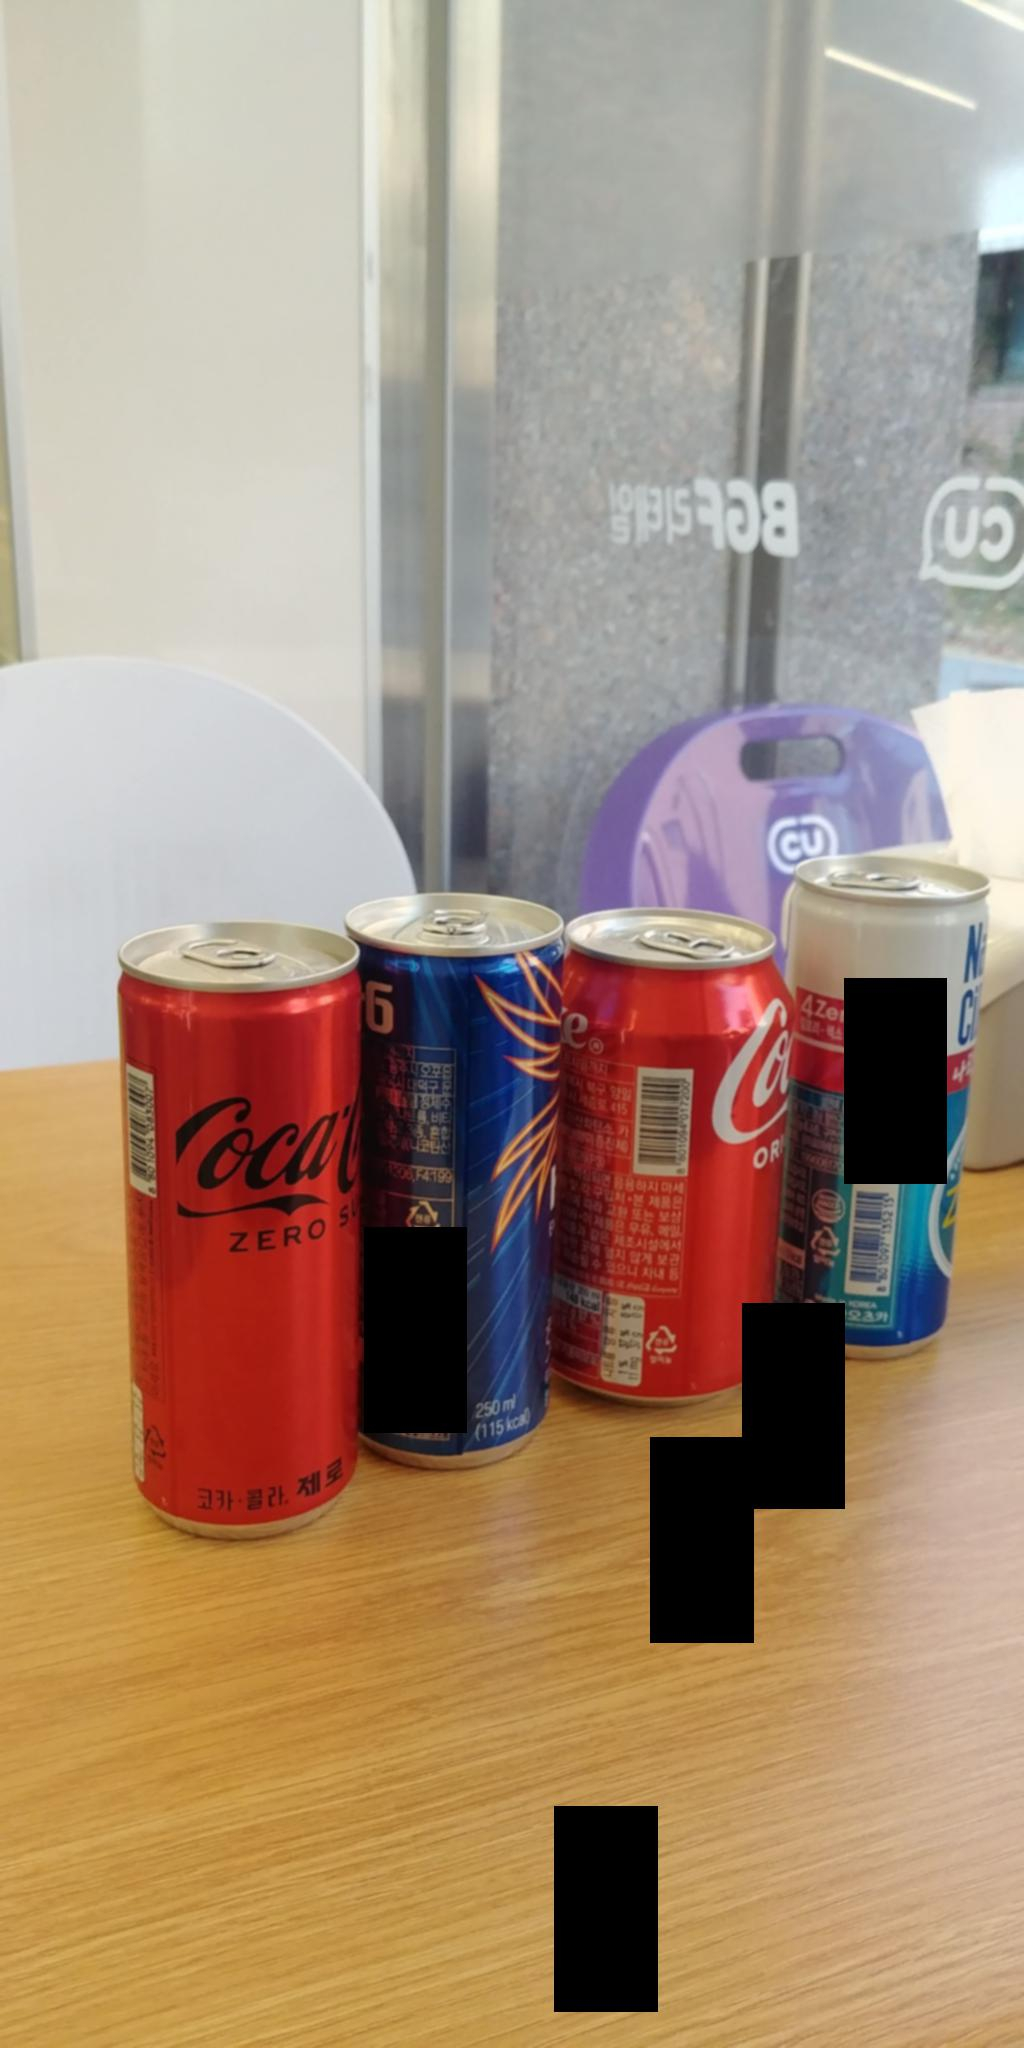cocacola: (577, 905, 797, 1415)
hotsix_org: (366, 866, 536, 1476)
narangdcider: (769, 832, 989, 1366)
